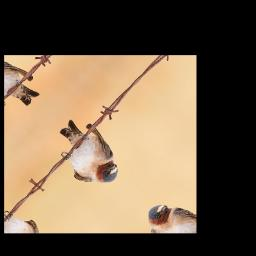Swallow: (40, 113, 135, 198)
